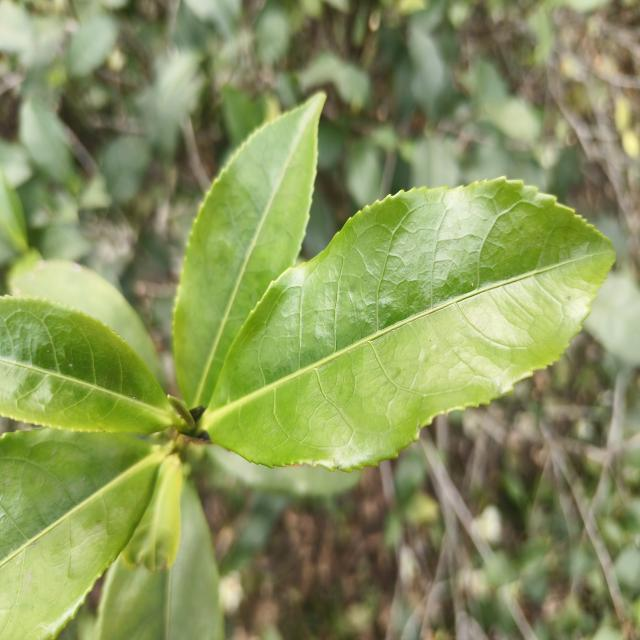Leaf: (201, 178, 614, 469), (173, 93, 325, 406), (0, 429, 168, 640), (0, 296, 184, 434), (94, 481, 224, 640), (9, 260, 165, 386), (123, 454, 182, 572), (81, 136, 150, 208), (19, 99, 72, 181), (68, 14, 117, 76)
